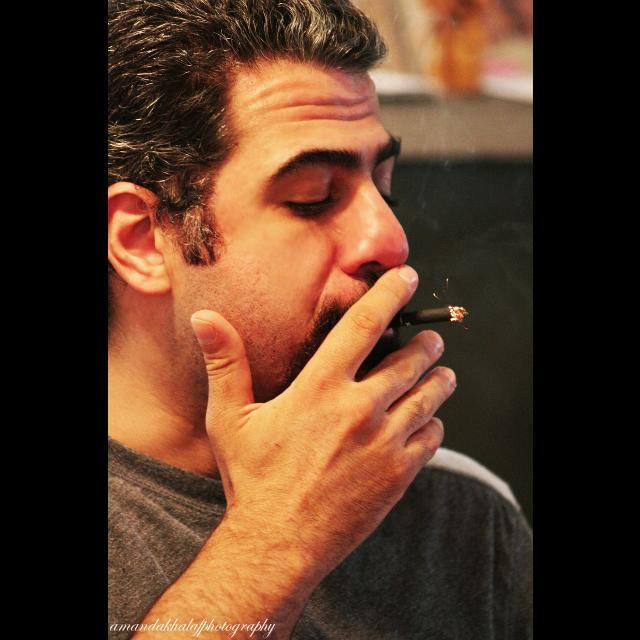rokok: (389, 300, 469, 336)
